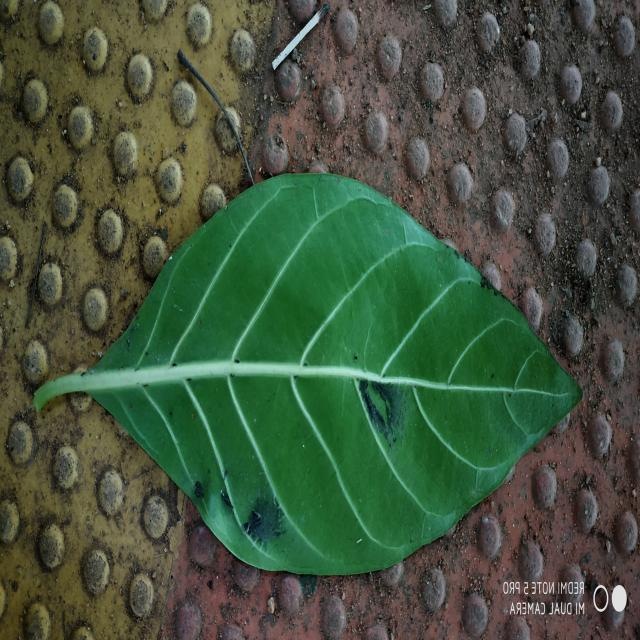leaf: (31, 170, 583, 576)
